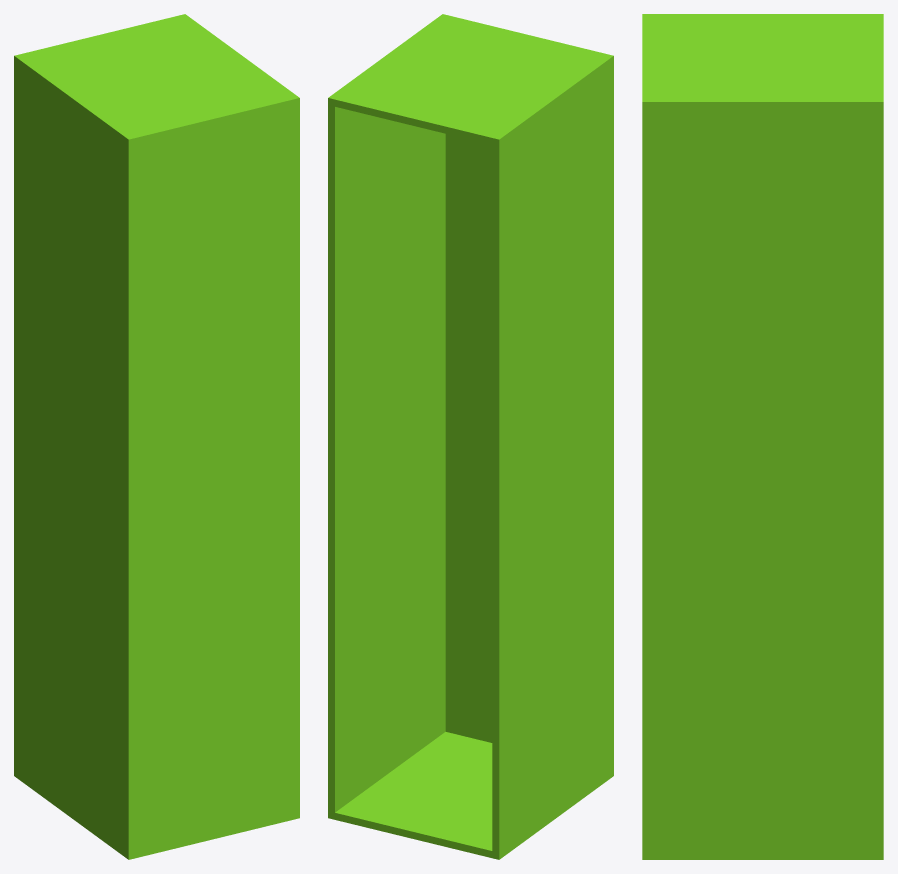
The model's file is SM_Furniture_Pax_50.fbx.
3 views of the same model, side by side, from view 1: azimuth 30°, elevation 25°; view 2: azimuth 150°, elevation 25°; view 3: azimuth 270°, elevation 25° (orthographic). The views are drawn at different scales.
Parts seen in each view (by area): view 1: SM_Furniture_Pax_50; view 2: SM_Furniture_Pax_50; view 3: SM_Furniture_Pax_50.
Part boxes in pixels (<box>): SM_Furniture_Pax_50: <box>14,14,299,859</box>; SM_Furniture_Pax_50: <box>328,14,613,859</box>; SM_Furniture_Pax_50: <box>642,14,883,859</box>.
Bounding box in the file's own units: 50 × 201 × 58.
